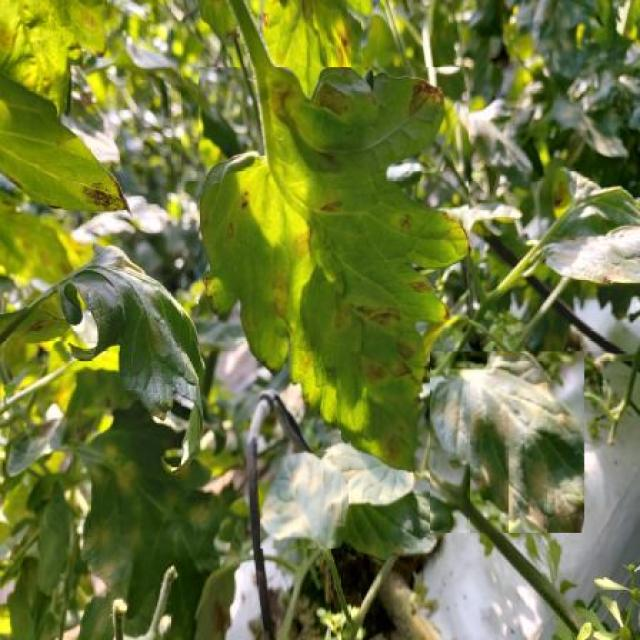Leaf Mold: (198, 68, 468, 471), (430, 351, 584, 533), (260, 452, 349, 548)
